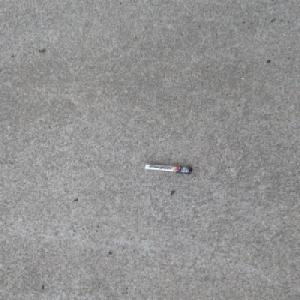Battery: (142, 163, 193, 174)
